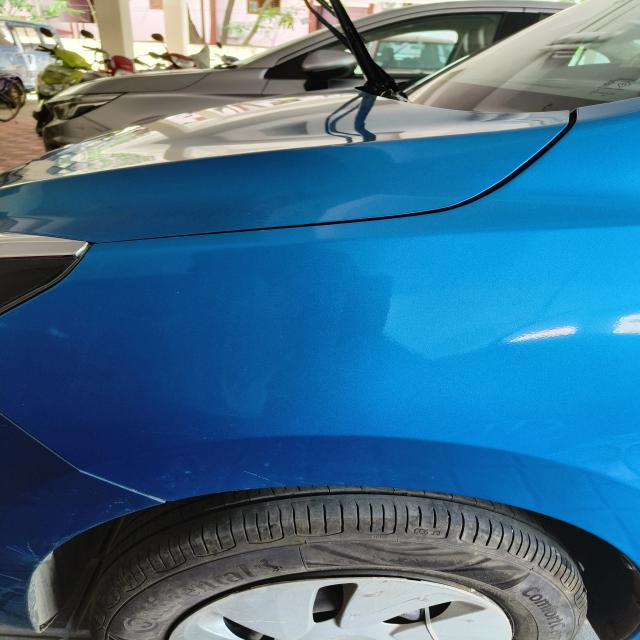scratch: (102, 475, 203, 509), (241, 468, 294, 488)
